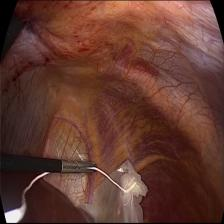Grasper: (61, 157, 100, 178)
Specimen Bag: (94, 158, 150, 224)
